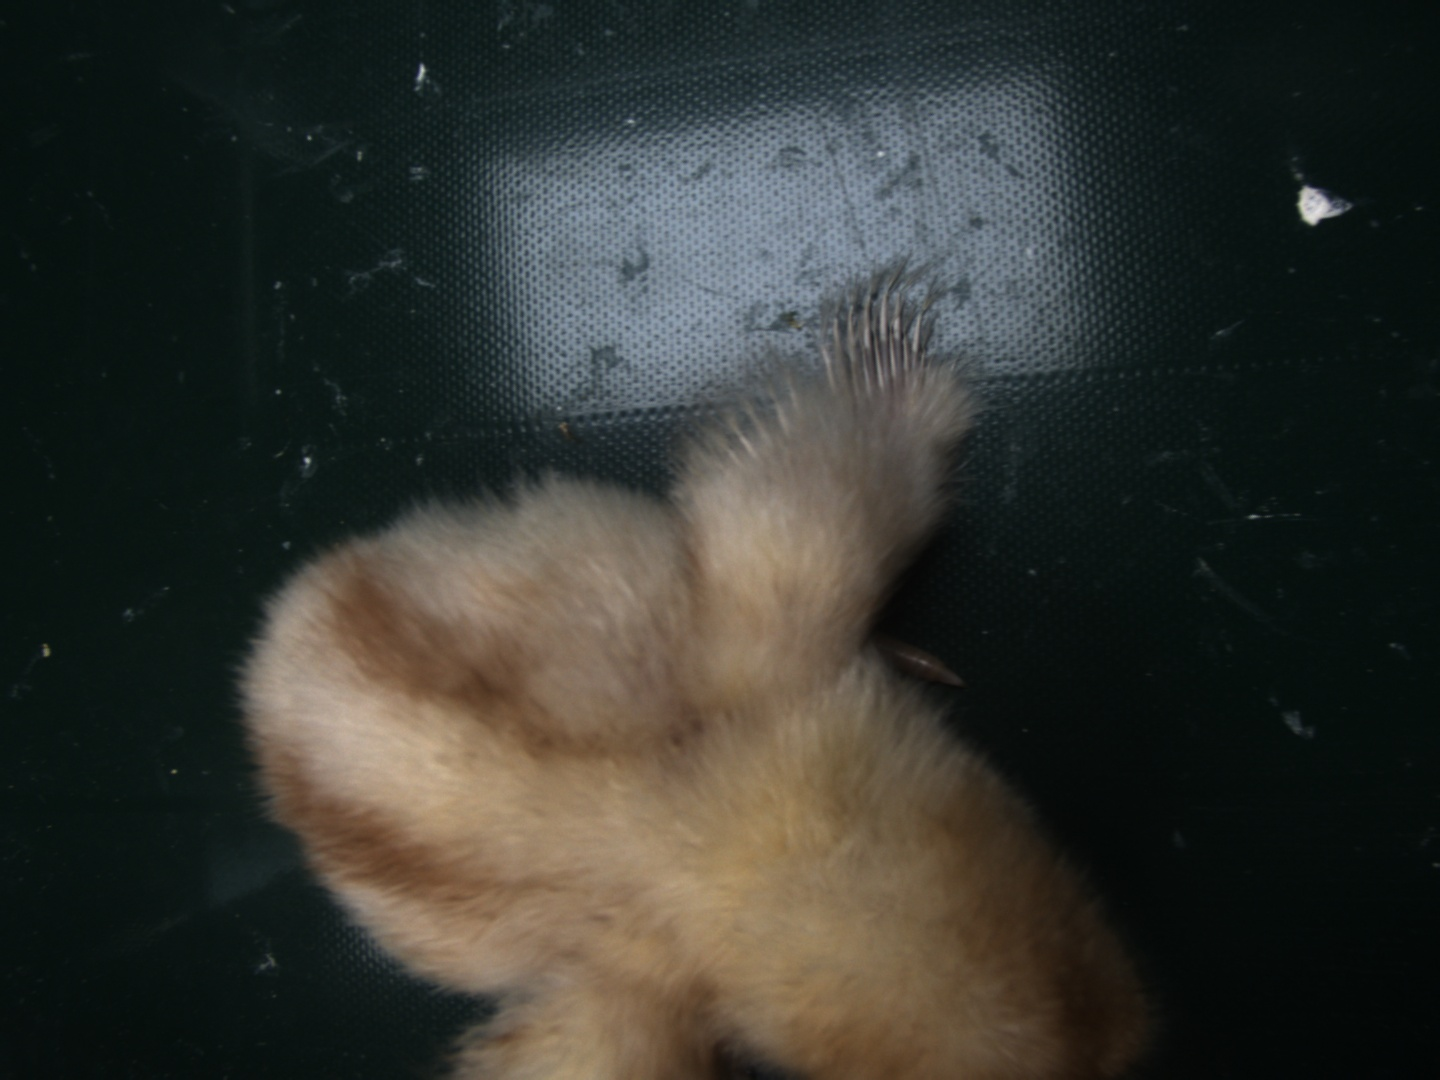female: (811, 289, 938, 405)
